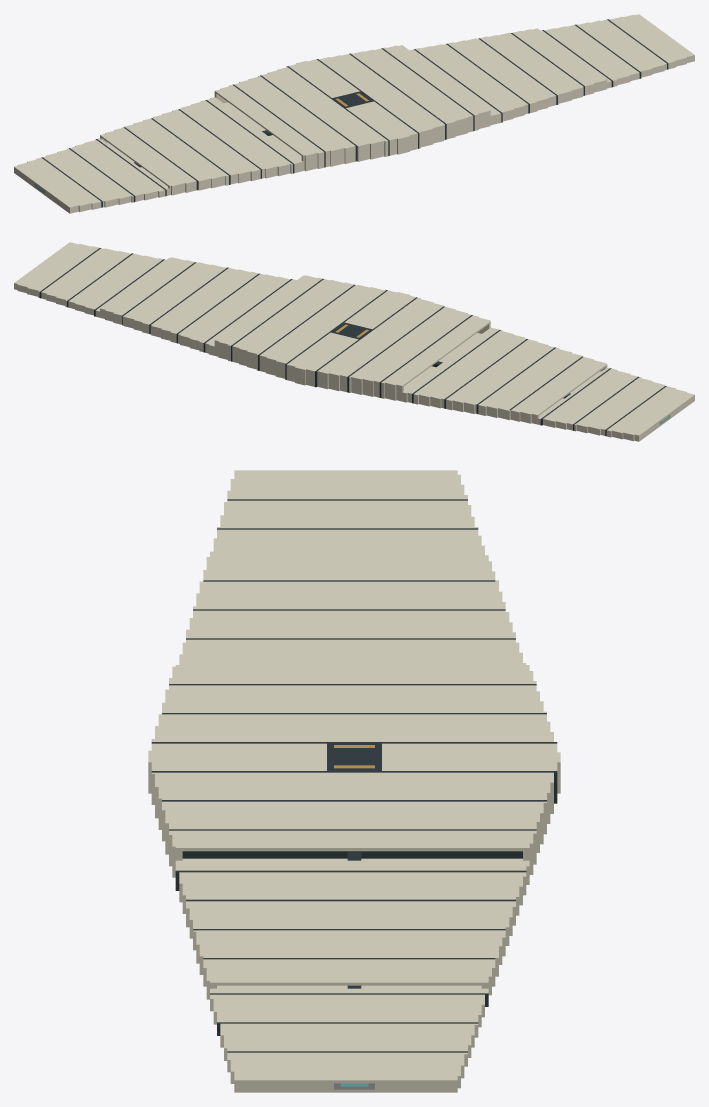
3 views of the same model, one above another, from view 1: azimuth 30°, elevation 25°; view 2: azimuth 150°, elevation 25°; view 3: azimuth 270°, elevation 25° (orthographic). The views are drawn at different scales.
Parts seen in each view (by area): view 1: 勤务飞机主翼; view 2: 勤务飞机主翼; view 3: 勤务飞机主翼.
Part boxes in pixels (box(x1,y1,x2,y2)): 勤务飞机主翼: box(14, 14, 694, 213); 勤务飞机主翼: box(14, 242, 694, 441); 勤务飞机主翼: box(148, 470, 560, 1092).
Bounding box in the file's own units: 8.4 × 0.2 × 2.4.
Materials: 5 (5 with a texture image).
